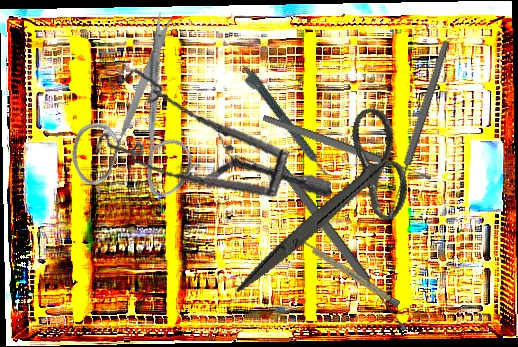Handpiece: (236, 64, 331, 181)
Iris Scissors: (234, 85, 427, 327), (30, 7, 240, 226)
Scalpel Handle: (300, 239, 401, 308)
Speculum: (85, 40, 333, 225)
Surgical Spoon: (273, 159, 410, 335), (261, 112, 433, 184), (384, 39, 452, 219)
